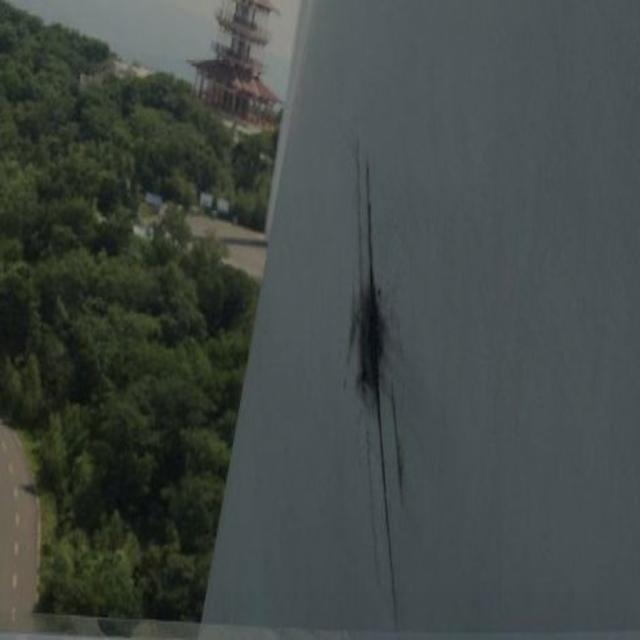crack: (348, 285, 396, 408), (372, 415, 394, 619), (354, 160, 378, 278)
